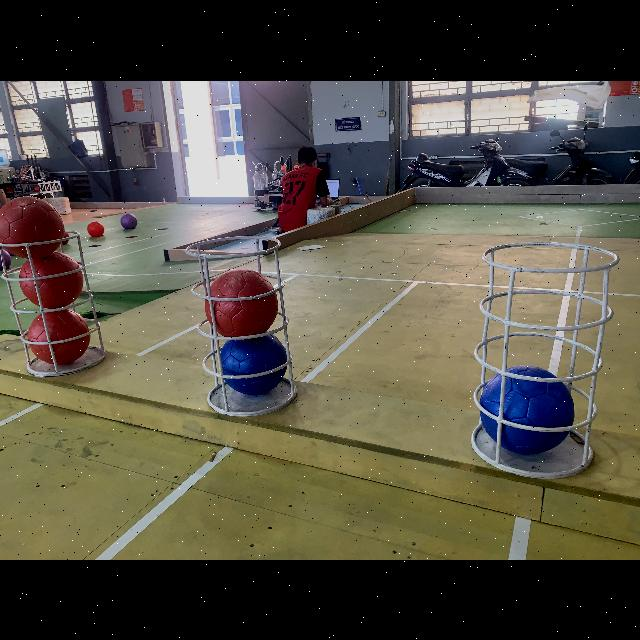B: (480, 364, 574, 456), (219, 331, 287, 395)
R: (205, 268, 277, 336), (0, 194, 66, 258), (18, 250, 84, 308), (26, 308, 92, 366)
